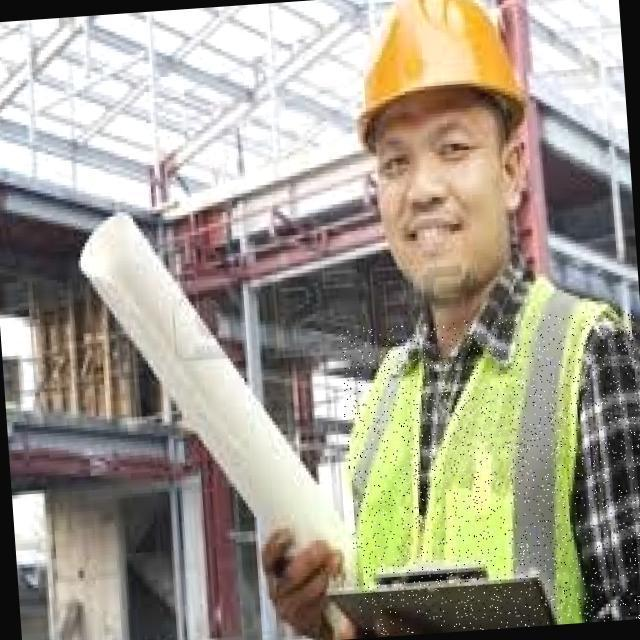helmet: (359, 0, 534, 142)
vest: (337, 308, 640, 638)
